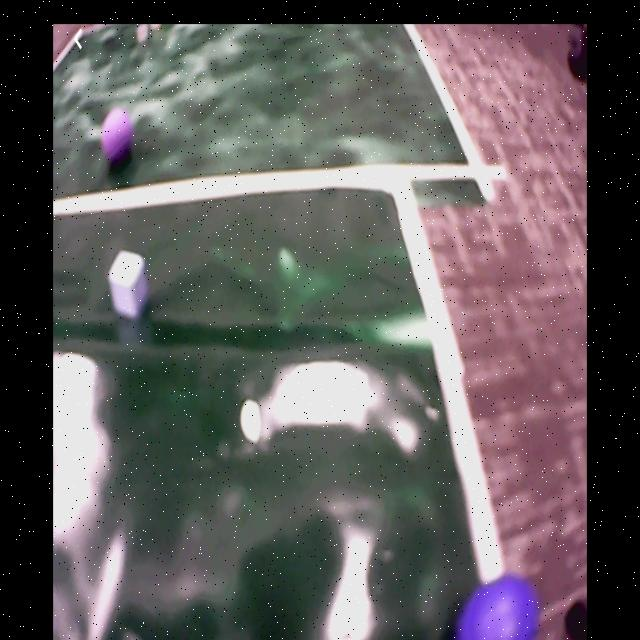ball: (458, 573, 544, 638), (102, 113, 136, 167)
